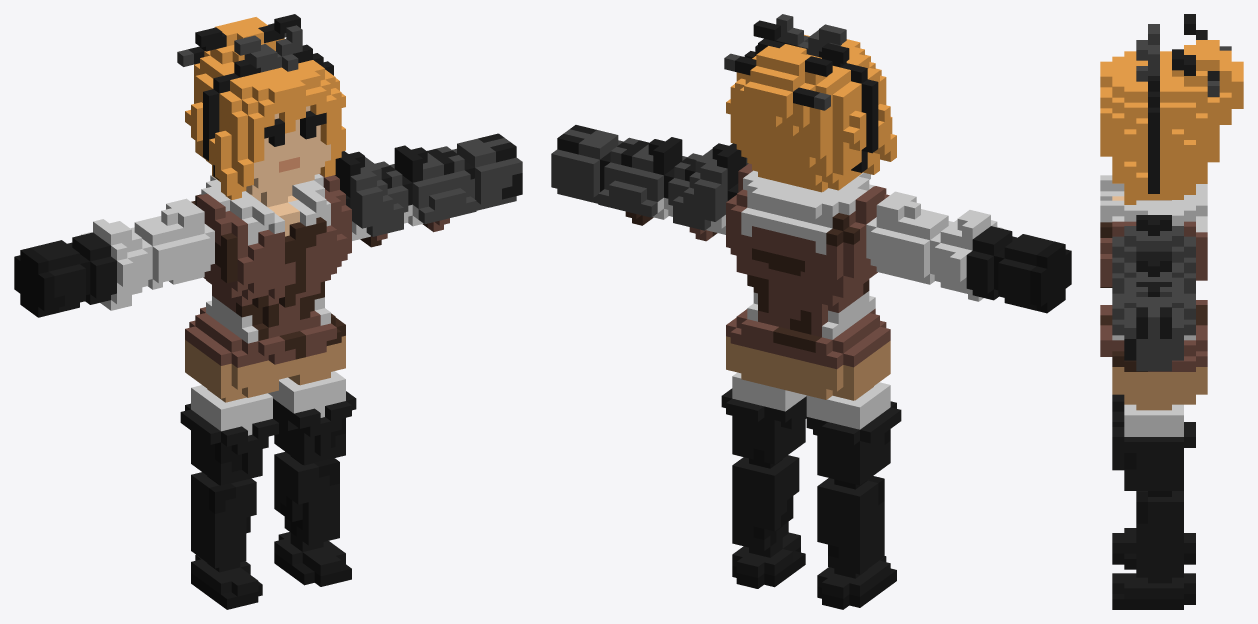
Rendered from human_woman_adventurer.glb.
3 views of the same model, side by side, from view 1: azimuth 30°, elevation 25°; view 2: azimuth 150°, elevation 25°; view 3: azimuth 270°, elevation 25° (orthographic). The views are drawn at different scales.
Parts seen in each view (by area): view 1: human_woman_adventurer.001; view 2: human_woman_adventurer.001; view 3: human_woman_adventurer.001.
Part boxes in pixels (box(x1,y1,x2,y2)): human_woman_adventurer.001: box(14, 14, 522, 609); human_woman_adventurer.001: box(551, 14, 1071, 609); human_woman_adventurer.001: box(1100, 14, 1243, 609).
Size of the model in its own units: 4.6 by 5 by 1.2.
1 material, 1 textured.
